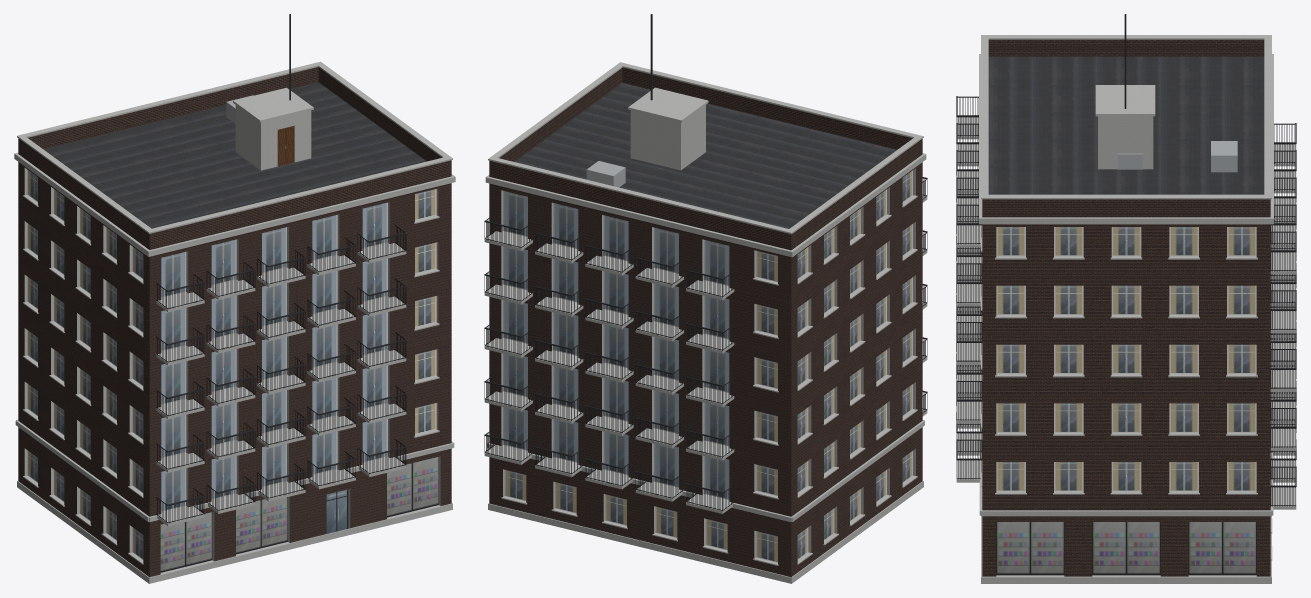
File: edificio_10_edificio_esquina.glb
3 renders of one model, left to right at view 1: azimuth 30°, elevation 25°; view 2: azimuth 150°, elevation 25°; view 3: azimuth 270°, elevation 25°, orthographic. The views are drawn at different scales.
Parts seen in each view (by area): view 1: EB10_edificio_esquina; view 2: EB10_edificio_esquina; view 3: EB10_edificio_esquina.
Boxes of the visible parts, x1,y1,x2,y2 form: EB10_edificio_esquina: [14, 14, 455, 583]; EB10_edificio_esquina: [484, 14, 927, 583]; EB10_edificio_esquina: [956, 14, 1296, 583].
Bounding box in the file's own units: 18.33 × 26.85 × 16.01.
7 materials, 5 textured.
